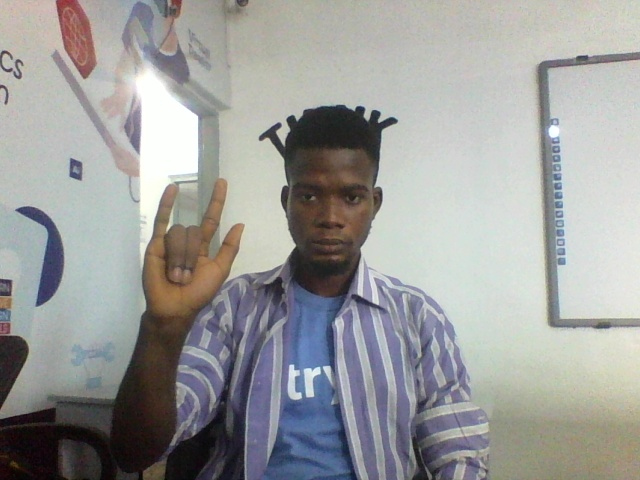i_love_you: (141, 180, 247, 331)
